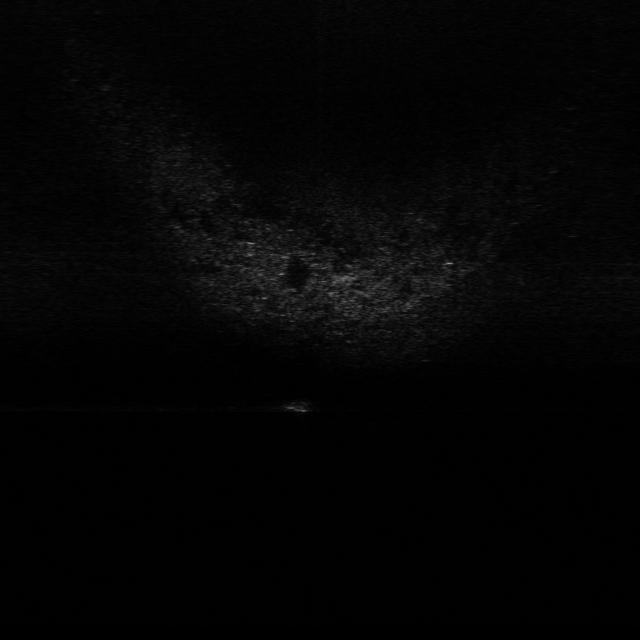cube: (279, 398, 317, 413)
